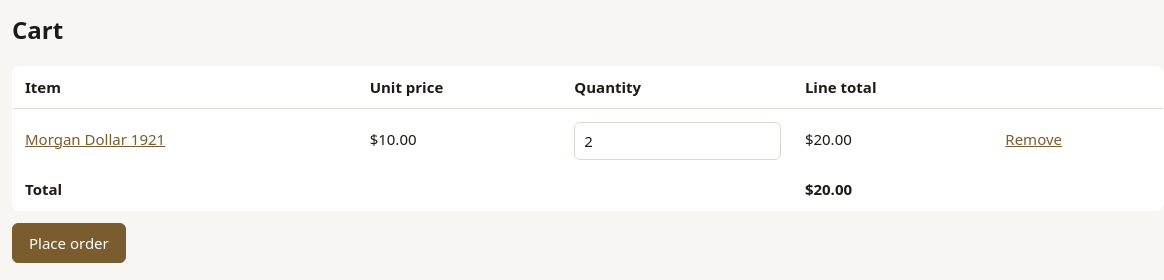
Cart checkout › empties the cart and names the order once it is placed
The image size is (1164, 280).
Click the button "Place order" at (69, 243), box [12, 222, 126, 263]
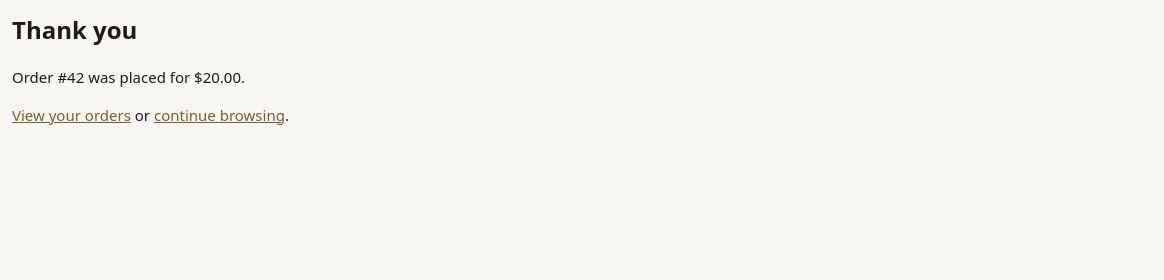
Result: the text "Order #42 was placed for $20.00." is shown at [12, 67, 245, 87]
